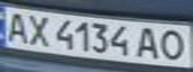1: (69, 19, 93, 52)
3: (90, 20, 112, 55)
4: (51, 16, 75, 51), (109, 23, 133, 57)
A: (0, 8, 30, 44), (133, 25, 163, 60)
O: (157, 28, 190, 62)
X: (21, 11, 54, 47)
